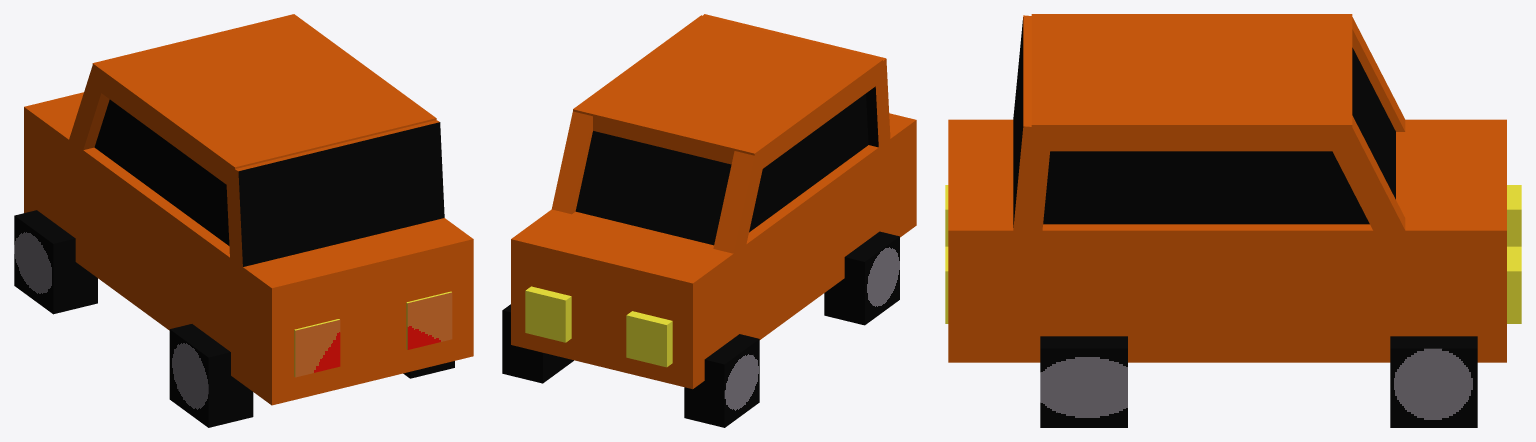
File: carroamarelo.fbx
3 renders of one model, left to right at view 1: azimuth 30°, elevation 25°; view 2: azimuth 150°, elevation 25°; view 3: azimuth 270°, elevation 25°, orthographic. The views are drawn at different scales.
Parts seen in each view (by area): view 1: cube_1, cube_9_1, cube_10_1, cube_11_1, cube_2_1, cube_1_2, cube_6_3, cube_5_3, cube_8_1, cube_13_1; view 2: cube_1, cube_9_1, cube_15_1, cube_11_1, cube_1_2, cube_2_1, cube_8_1, cube_7_1, cube_5_1, cube_6_1, cube_10_1, cube_4_1; view 3: cube_1, cube_9_1, cube_12_1, cube_3_1, cube_4_1, cube_14_1, cube_10_1, cube_7_1, cube_15_1, cube_8_1, cube_6_1, cube_5_1.
Part boxes in pixels (x1,y1,x2,y2): cube_1: (24,92,473,405); cube_9_1: (92,14,436,189); cube_10_1: (225,120,444,291); cube_11_1: (100,99,228,242); cube_2_1: (169,324,253,427); cube_1_2: (14,210,97,314); cube_6_3: (406,291,452,349); cube_5_3: (294,319,340,377); cube_8_1: (65,65,109,168); cube_13_1: (94,131,229,245); cube_1: (511,113,916,389); cube_9_1: (573,15,882,168); cube_15_1: (575,131,731,245); cube_11_1: (749,93,868,232); cube_1_2: (684,334,759,427); cube_2_1: (824,231,899,325); cube_8_1: (713,151,765,269); cube_7_1: (552,111,592,214); cube_5_1: (626,311,672,367); cube_6_1: (525,286,571,342); cube_10_1: (703,14,891,169); cube_4_1: (502,304,573,383); cube_1: (948,119,1506,362); cube_9_1: (1031,14,1352,151); cube_12_1: (1043,151,1360,224); cube_3_1: (1040,336,1127,427); cube_4_1: (1390,336,1477,427); cube_14_1: (1069,198,1369,224); cube_10_1: (1010,15,1049,259); cube_7_1: (1326,115,1413,257); cube_15_1: (1352,47,1395,199); cube_8_1: (1352,17,1405,131); cube_6_1: (1507,246,1521,323); cube_5_1: (1507,185,1521,246).
Size of the model in its own units: 2707 by 2707 by 4861.
6 materials, 6 textured.
